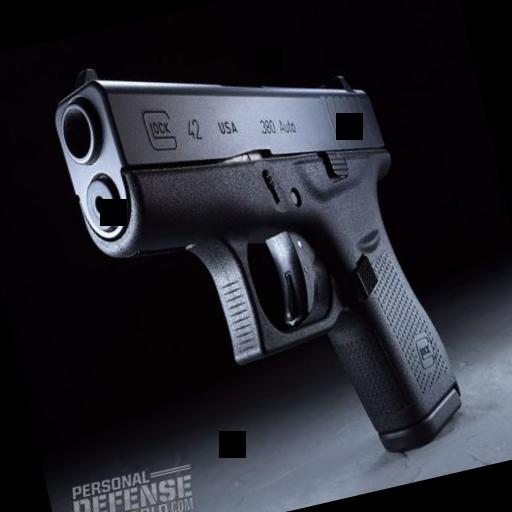Handgun: (36, 0, 469, 509)
